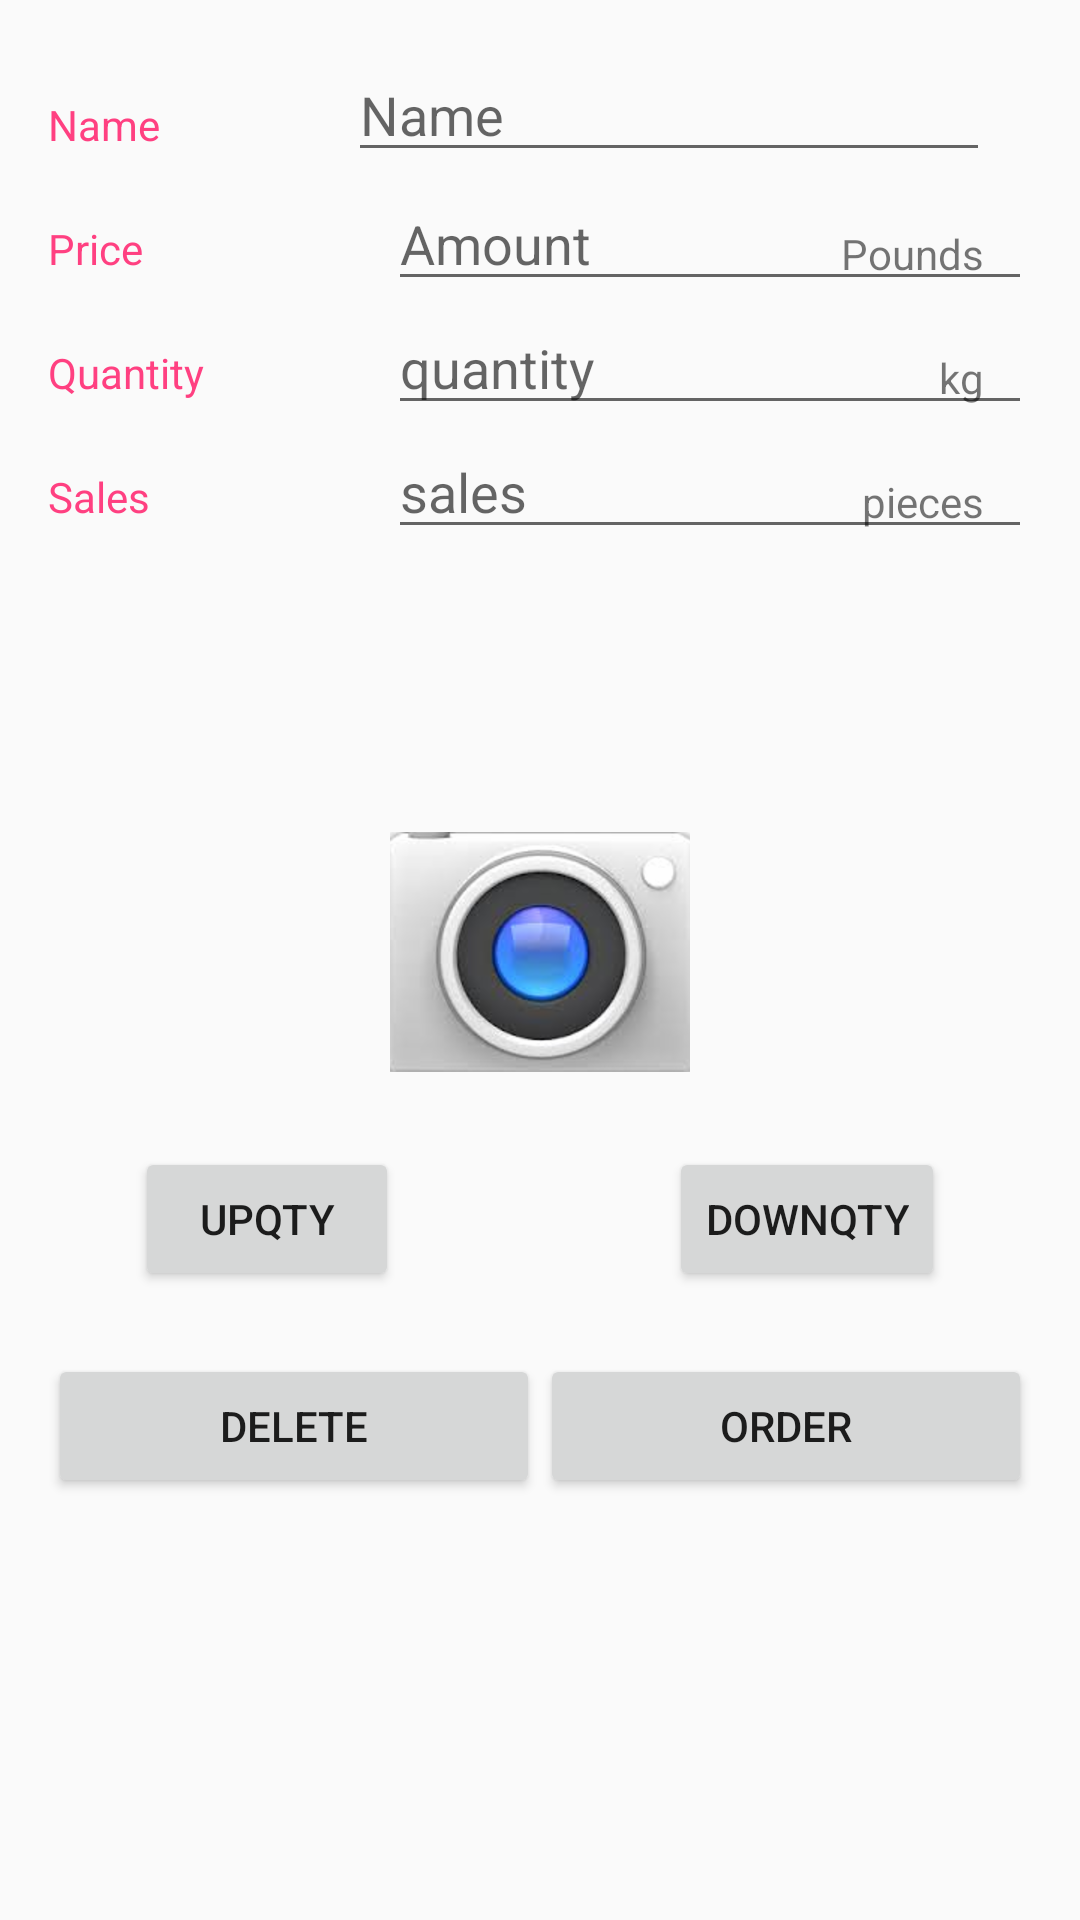

Icon bounding boxes for this 1080x1920 phone screenshot, format (x1, y1, x2, y2):
camera: (390, 832, 690, 1072)
